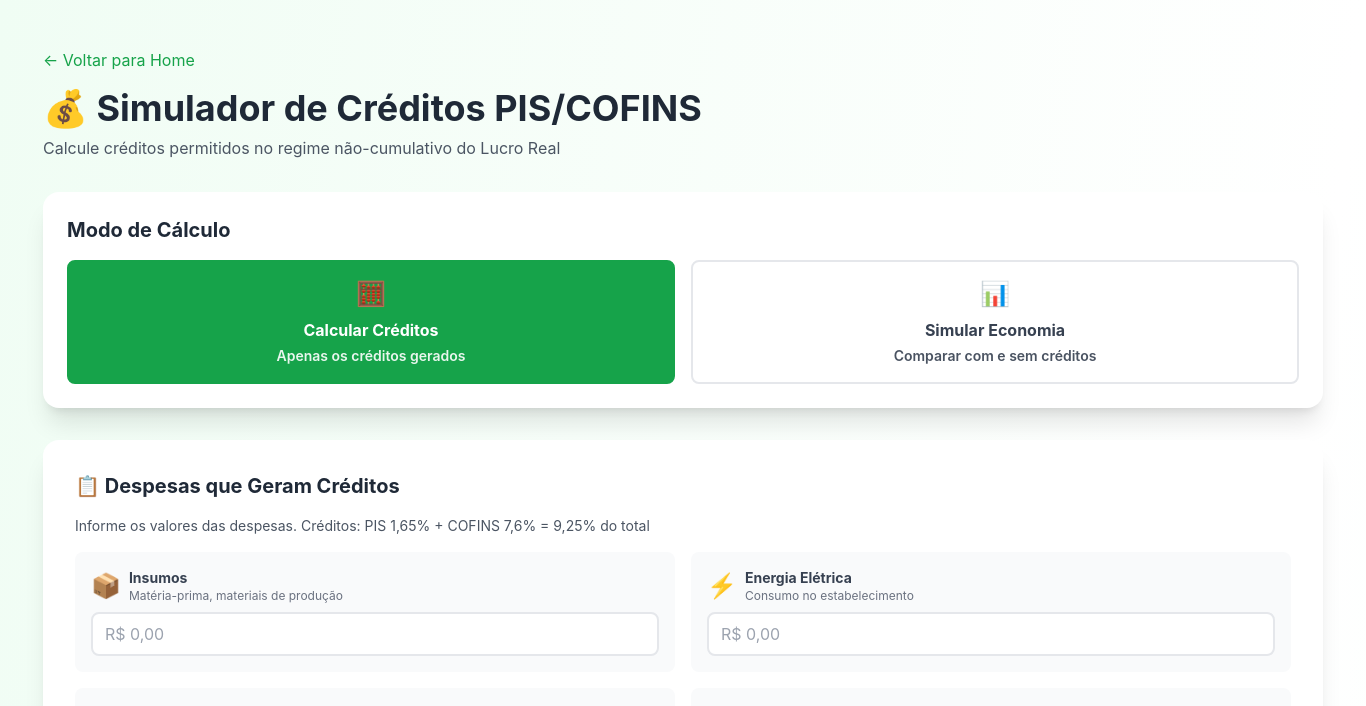
Test: SimuladorCreditos - Testes de UI › Dado botão Limpar › Quando clicar em Limpar, Então deve resetar formulário
In the field with placeholder "R$ 0,00" below "Matéria-prima, materiais de produção": (375, 634) x1=91 y1=612 x2=659 y2=656, type "50000000"
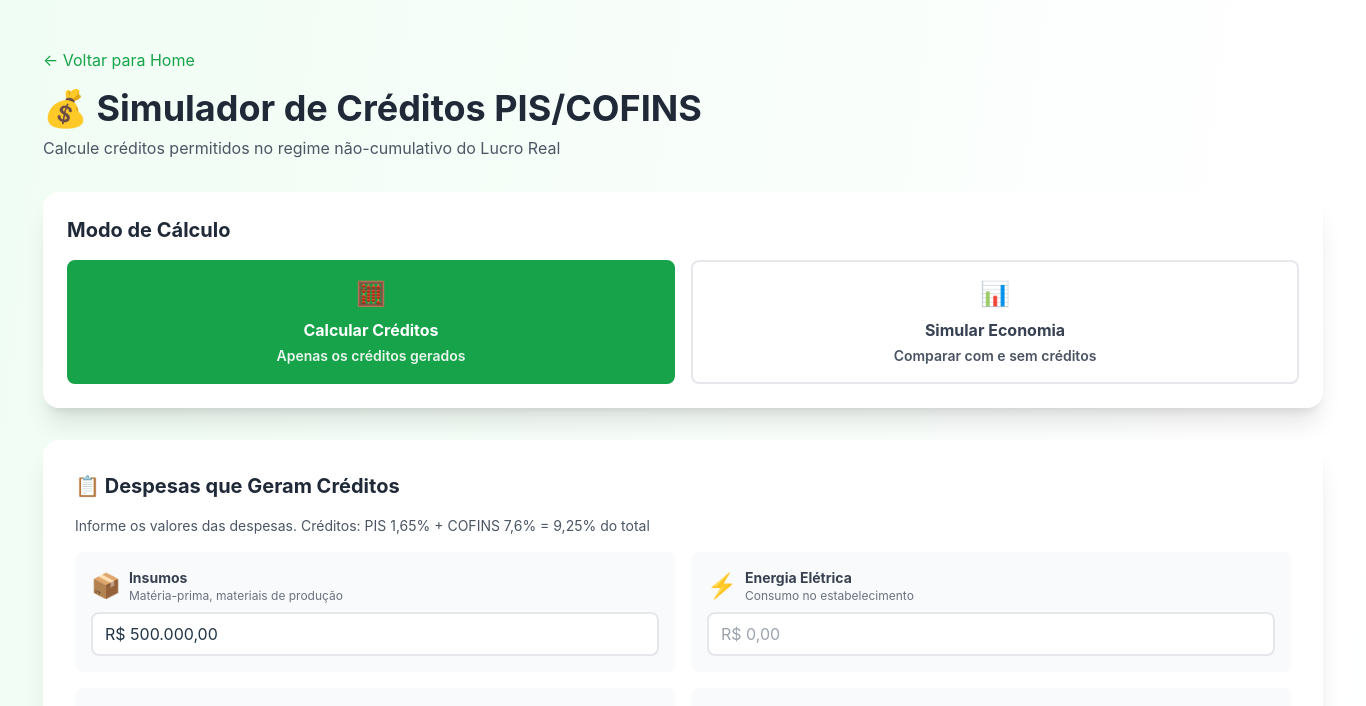
In the field with placeholder "R$ 0,00" below "Consumo no estabelecimento": (991, 634) x1=707 y1=612 x2=1275 y2=656, type "10000000"
(page scrolled)
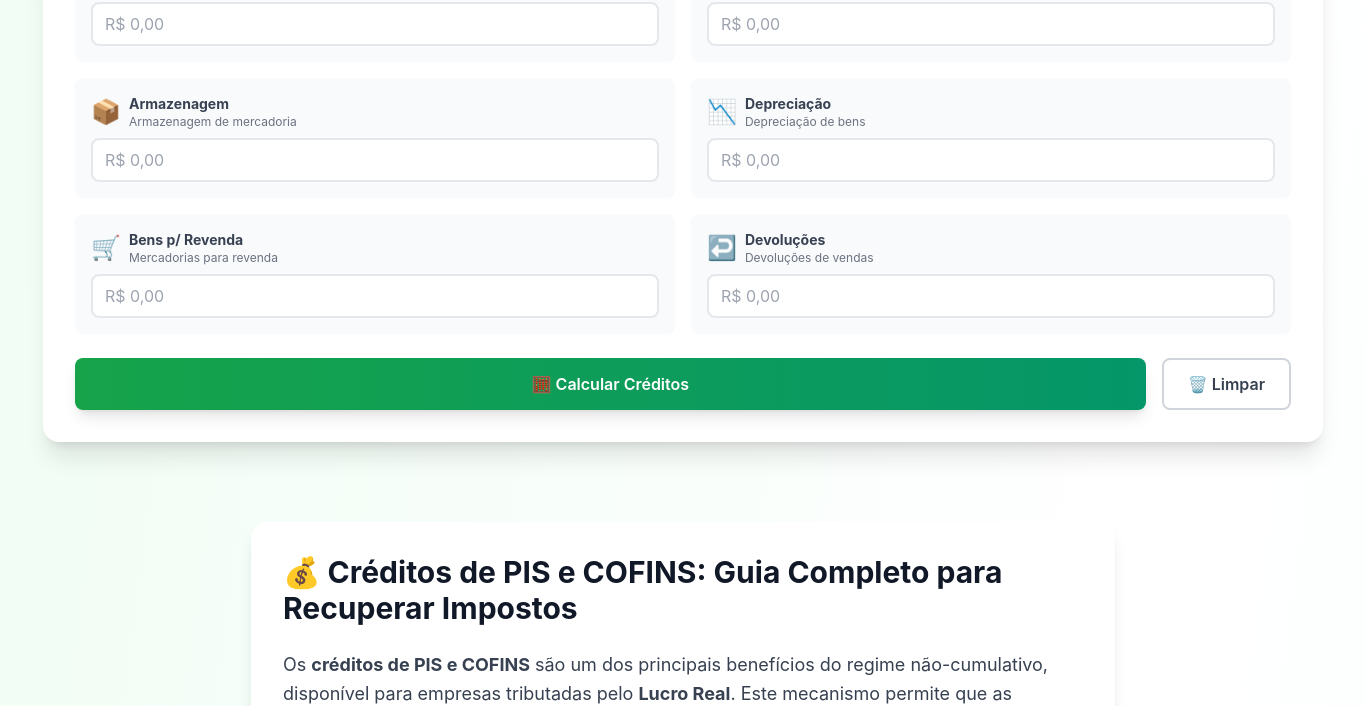
Click the button "🗑️ Limpar": (1226, 384) x1=1162 y1=358 x2=1291 y2=410
(page scrolled)
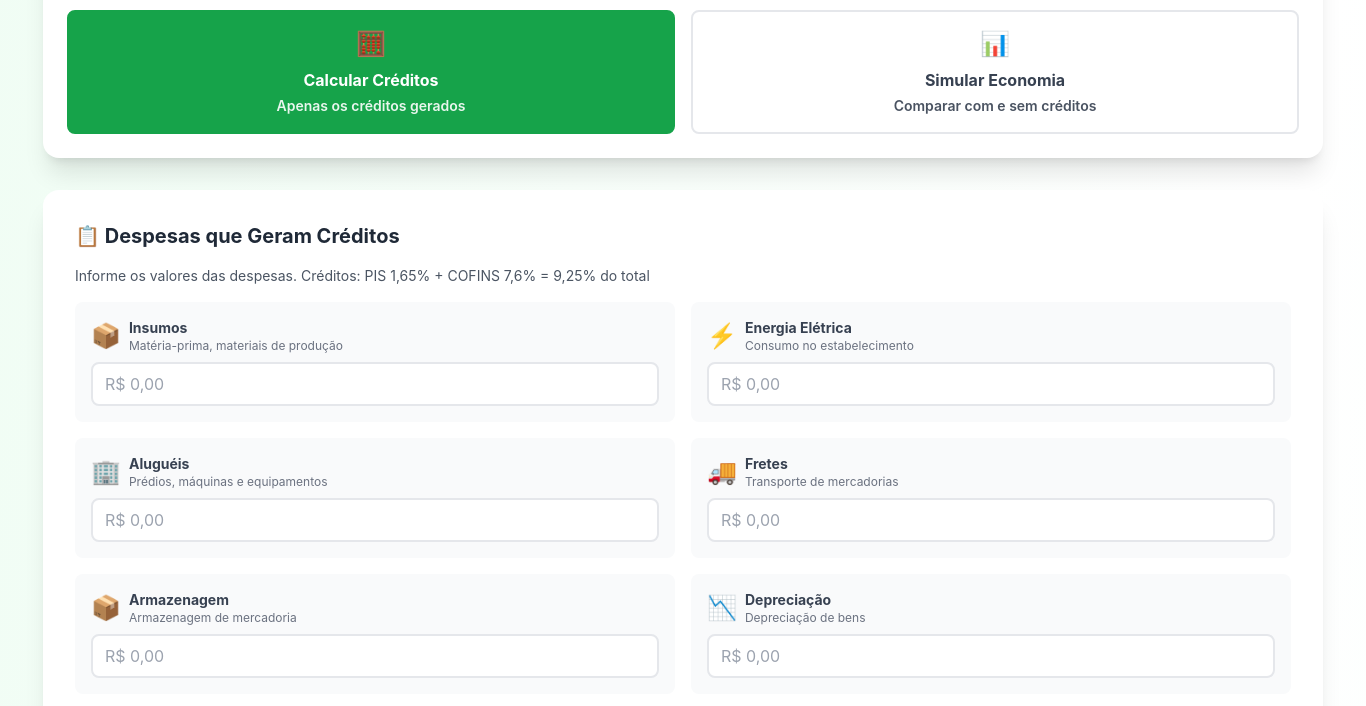
Expected: the field with placeholder "R$ 0,00" below "Matéria-prima, materiais de produção" is empty, x1=91 y1=362 x2=659 y2=406
Expected: the field with placeholder "R$ 0,00" below "Consumo no estabelecimento" is empty, x1=707 y1=362 x2=1275 y2=406
